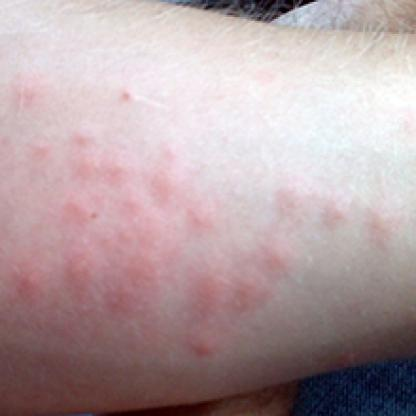Fire ant: (51, 191, 166, 325), (189, 271, 265, 320), (66, 151, 134, 182), (7, 259, 42, 301), (272, 185, 303, 223), (185, 196, 216, 234), (178, 325, 214, 356), (12, 72, 44, 106), (252, 238, 286, 267), (365, 202, 389, 238), (318, 197, 344, 228), (23, 134, 47, 165), (68, 121, 95, 146), (252, 64, 274, 85), (146, 172, 174, 187), (116, 81, 134, 102), (0, 124, 10, 152)
